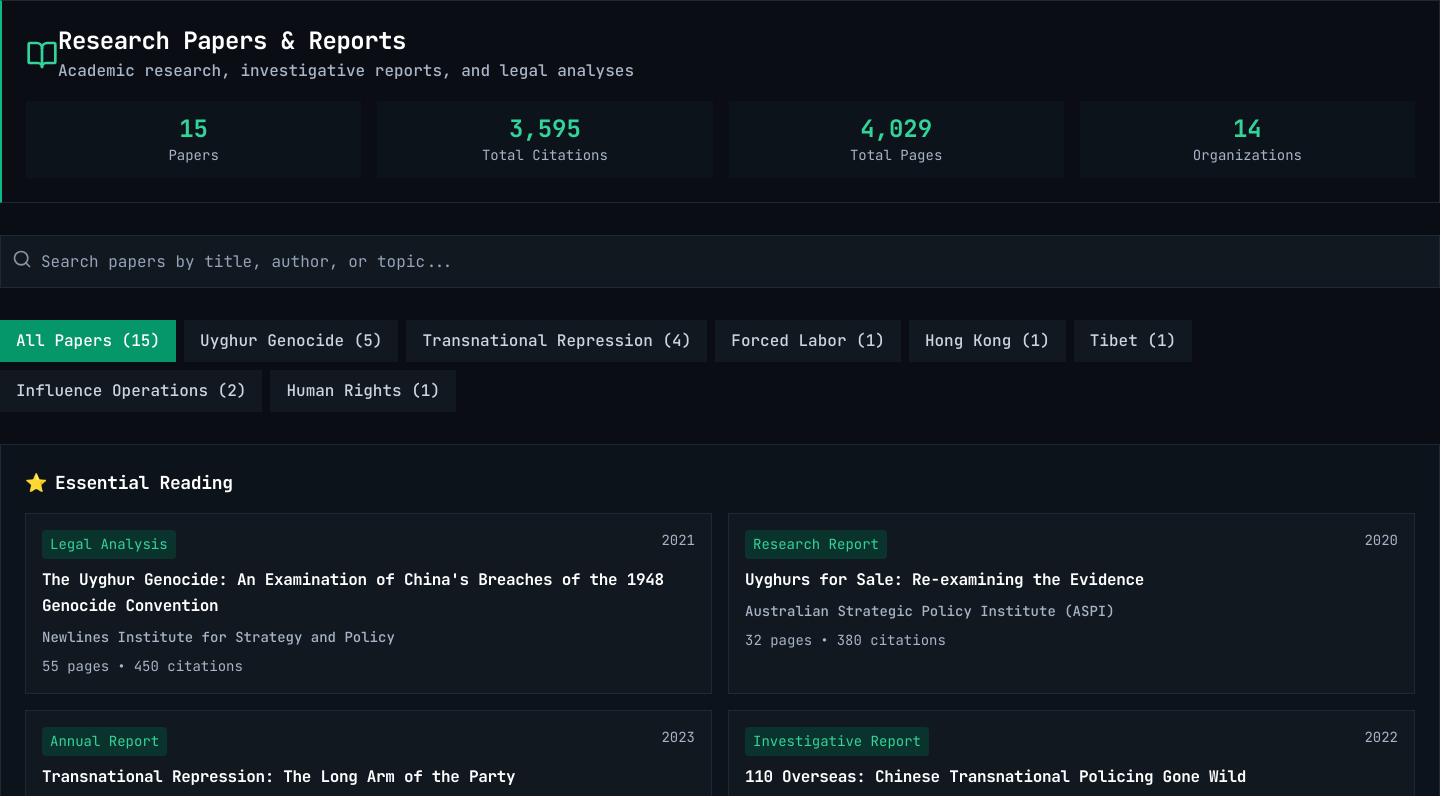
it: ResearchPapers › filters papers by search query
This screenshot has width=1440, height=796.
Type "organ harvesting" into the field labelled "Search".
click(720, 262); type("organ harvesting")  # box [0,235,1439,288]
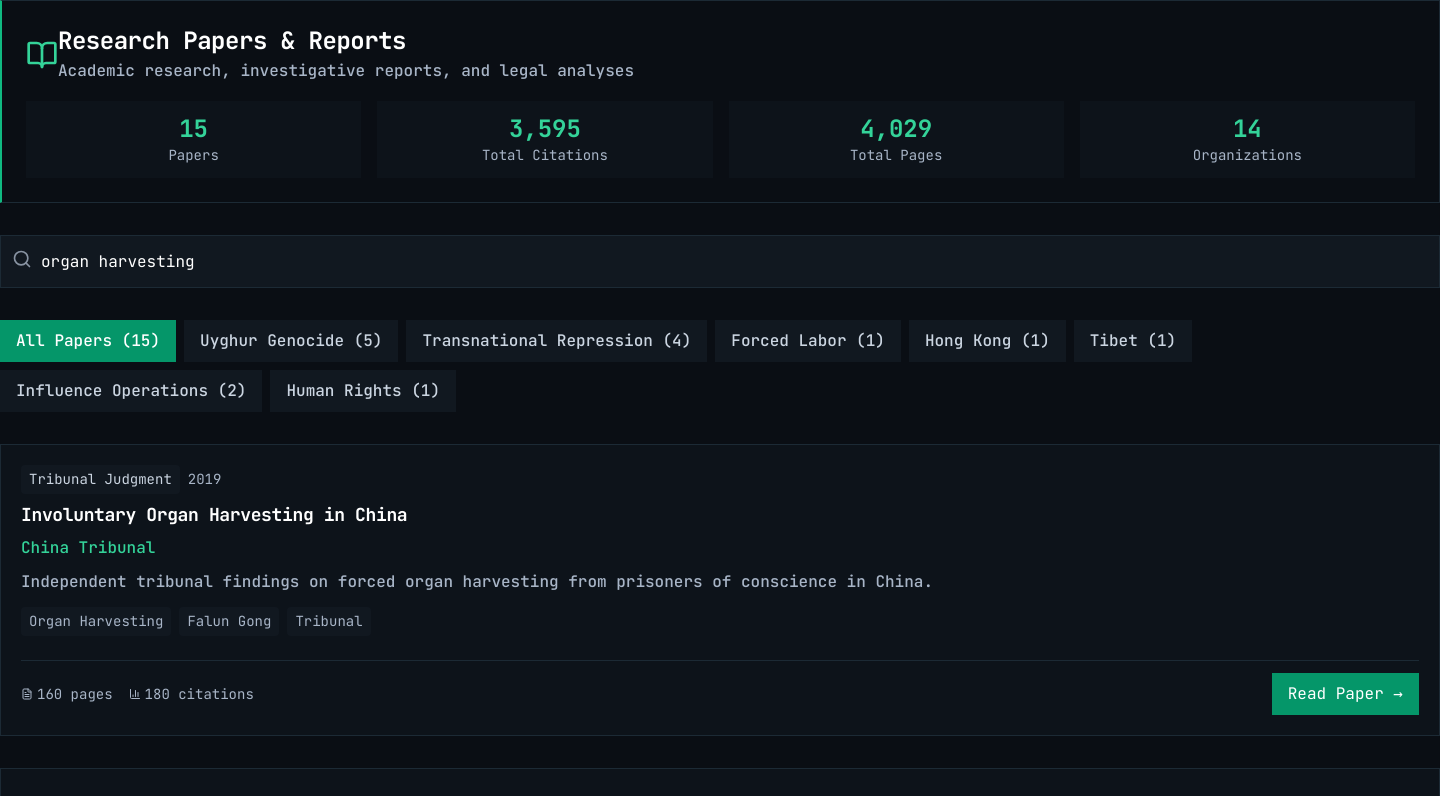
Expected: the heading "Involuntary Organ Harvesting in China" is shown, [21,503,407,526]
Expected: the link "110 Overseas" is gone
